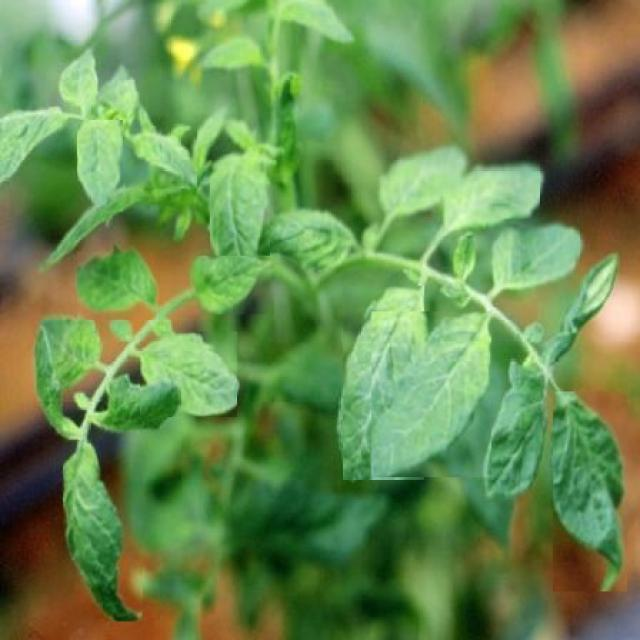Mosaic Virus: (372, 311, 492, 478), (343, 286, 424, 480), (553, 392, 627, 591), (63, 442, 143, 622), (443, 147, 540, 236), (140, 332, 237, 418), (486, 219, 580, 307), (210, 154, 270, 262), (77, 251, 159, 320), (189, 256, 274, 314), (126, 125, 198, 189), (78, 120, 122, 211)
